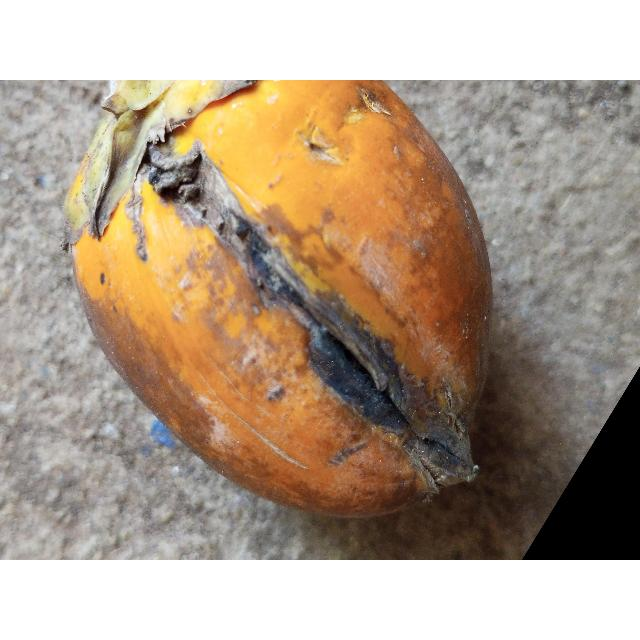damaged: (62, 80, 494, 520)
